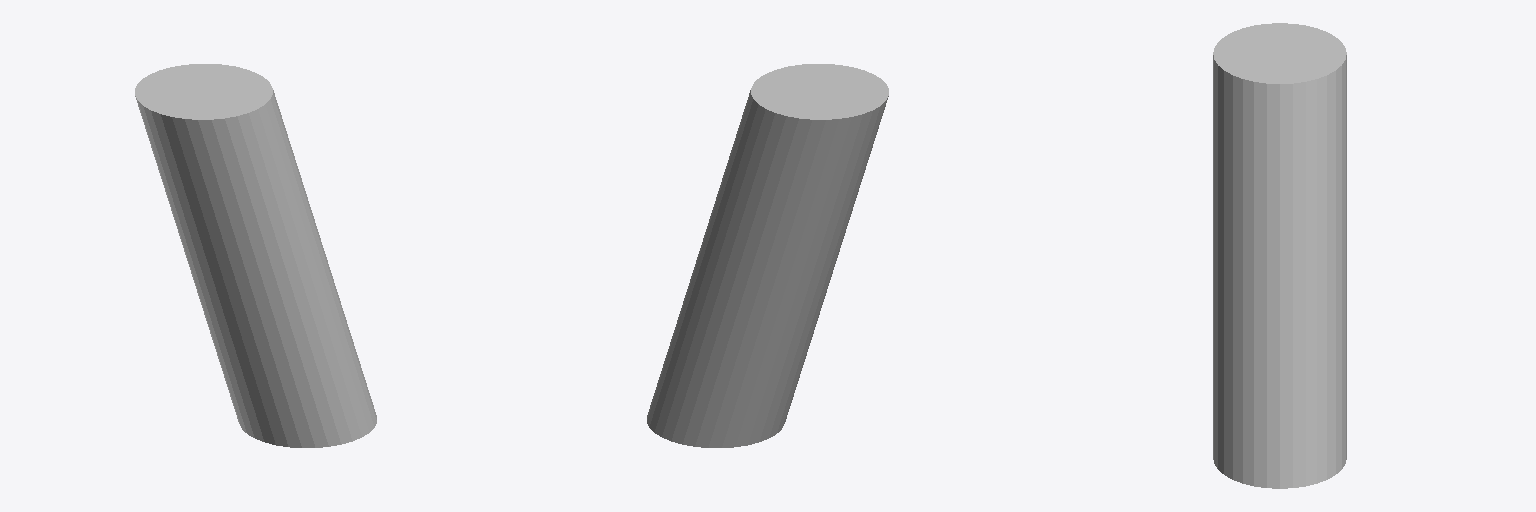
File: wire.obj
3 views of the same model, side by side, from view 1: azimuth 30°, elevation 25°; view 2: azimuth 150°, elevation 25°; view 3: azimuth 270°, elevation 25° (orthographic).
Visible parts, largest first — view 1: Cylinder; view 2: Cylinder; view 3: Cylinder.
Boxes of the visible parts, x1=… form: Cylinder: x1=135, y1=64, x2=376, y2=447; Cylinder: x1=647, y1=64, x2=888, y2=447; Cylinder: x1=1213, y1=23, x2=1346, y2=488.
Size of the model in its own units: 1.73 by 2.6 by 0.8852.